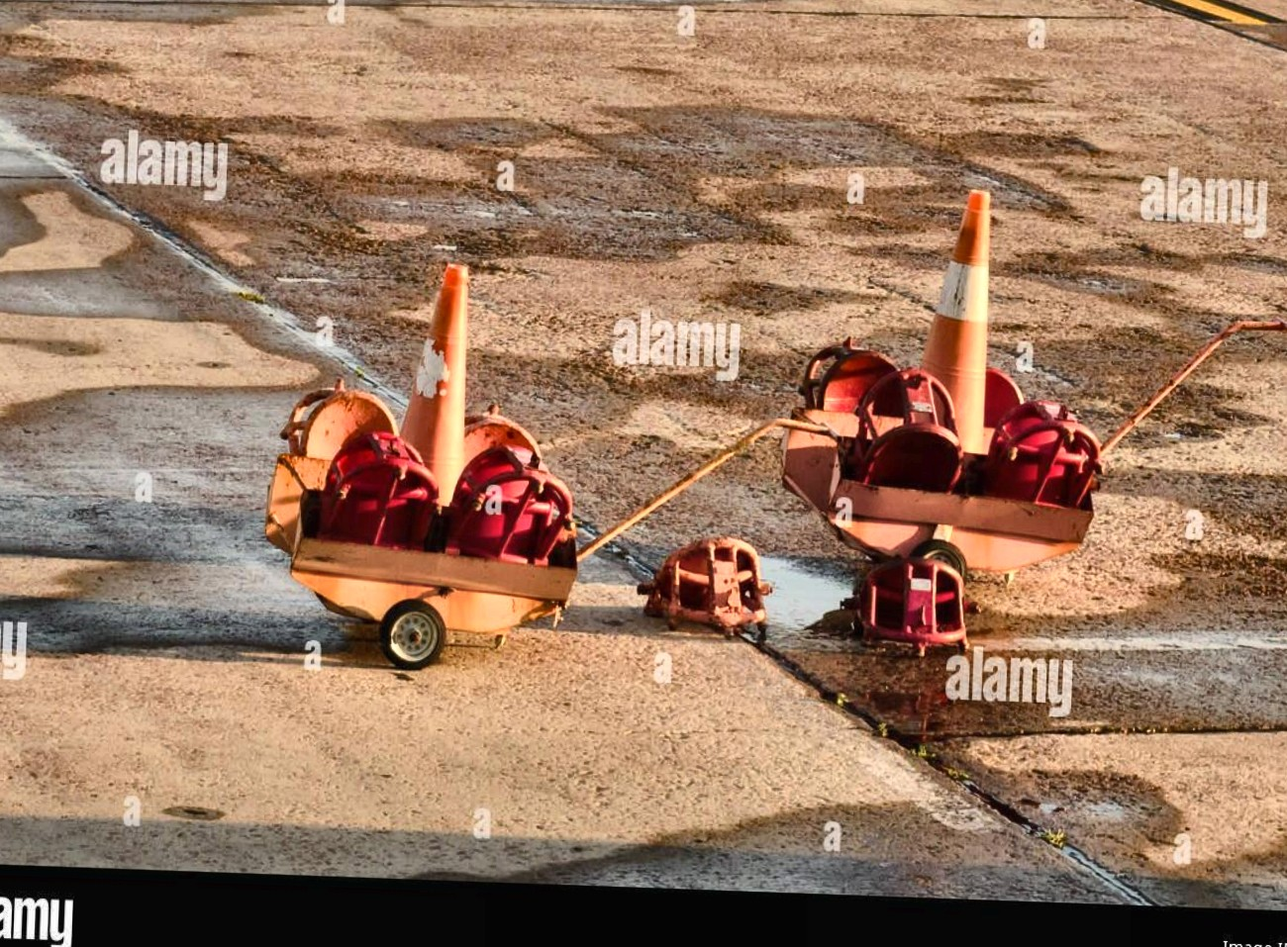chock: (446, 436, 579, 567), (635, 530, 785, 644), (846, 366, 970, 494), (321, 424, 444, 552), (987, 401, 1105, 512), (847, 552, 973, 651), (282, 376, 400, 464), (799, 332, 912, 421), (461, 405, 553, 493), (983, 359, 1034, 426)
wheel: (376, 598, 449, 674), (902, 537, 973, 601)
